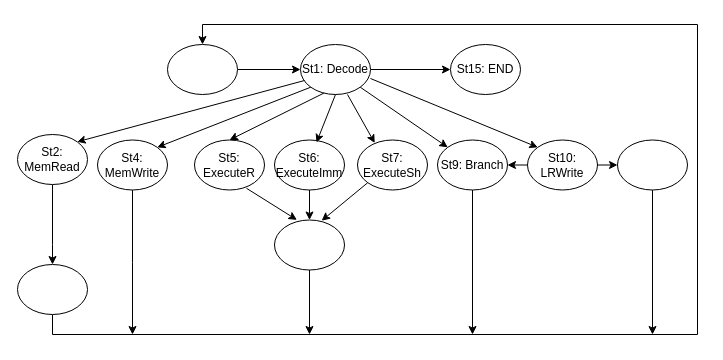
Some shapes in this 723 by 360 pixel diagram are drawn without their labels. The centre of each missing label's shape, as x and y in pixels:
"St0: Fetch" belongs at [202,69].
"St11: BranchIndir" belongs at [652,164].
"St3: MemRB" belongs at [52,289].
"St8: ALUWB" belongs at [309,244].
